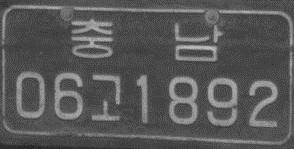0: (15, 71, 46, 119)
1: (130, 75, 158, 124)
2: (249, 79, 278, 128)
6: (53, 71, 84, 121)
8: (167, 75, 198, 125)
9: (205, 77, 238, 127)
고: (90, 72, 122, 122)
충남_D: (71, 17, 222, 62)
